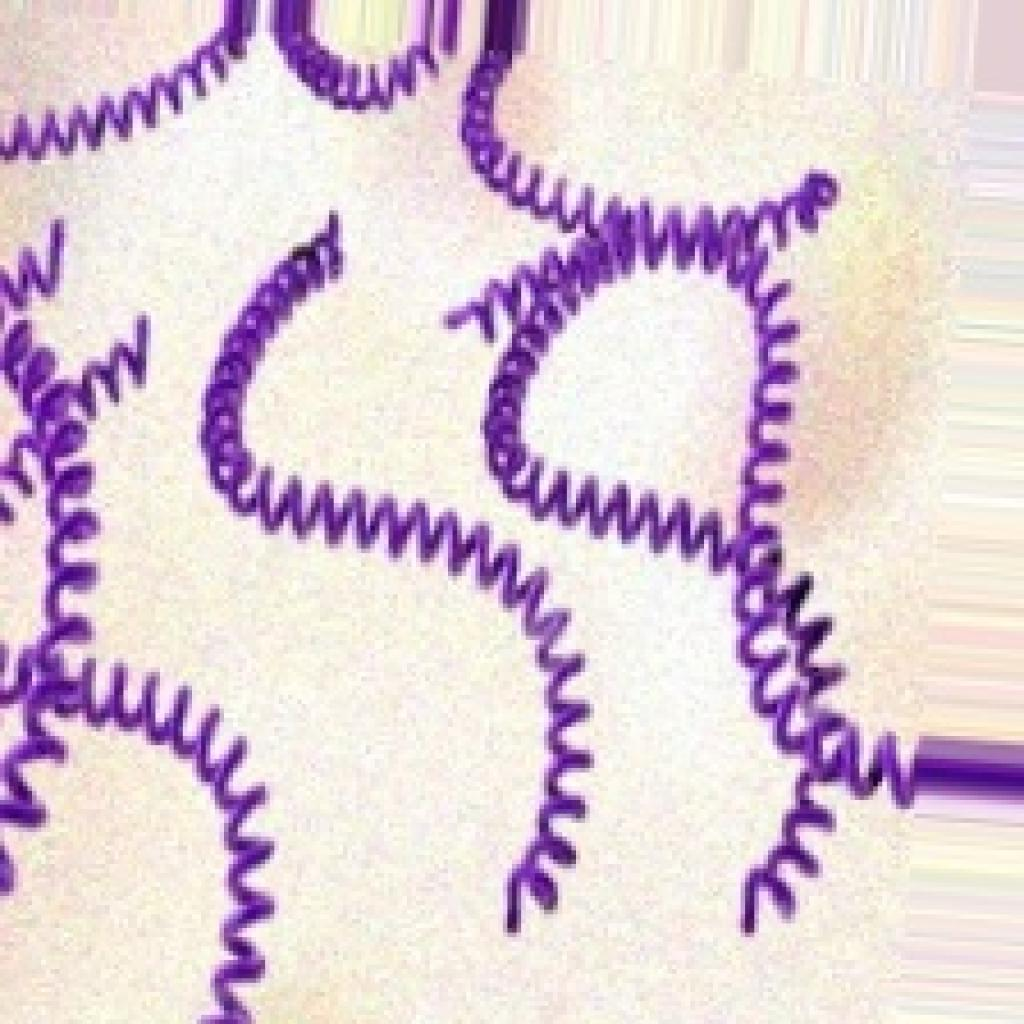Sprialbacteria: (0, 0, 960, 1019)
